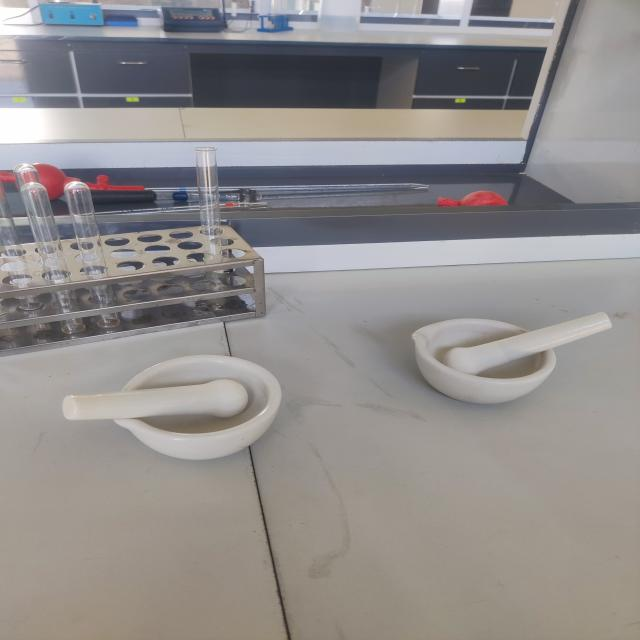Porcelain_Mortar Pestle: (43, 322, 311, 482), (380, 279, 622, 441)
